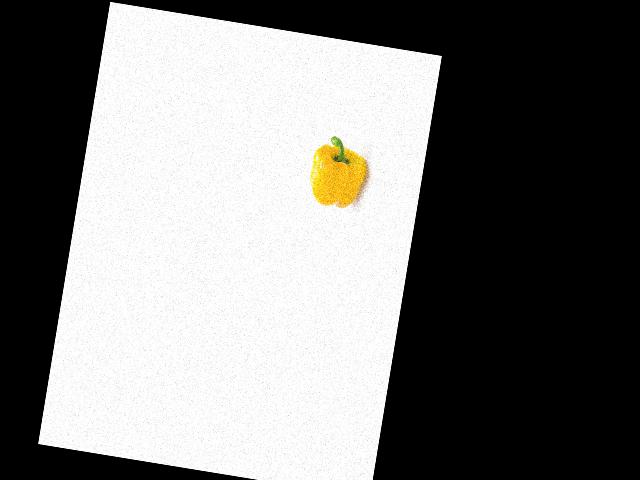bell_pepper: (302, 127, 371, 213)
